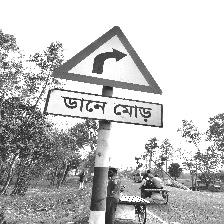Right-turn: (46, 27, 165, 128)
